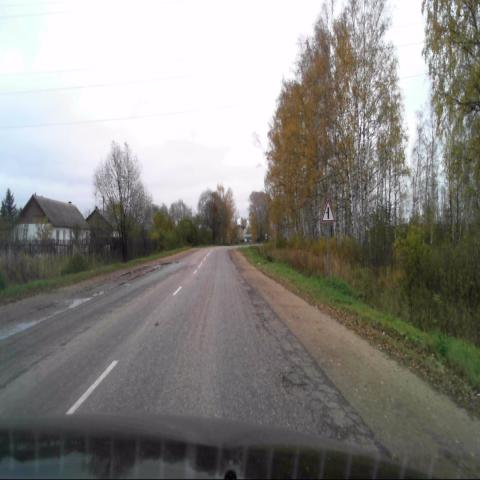2_3_3: (322, 199, 334, 223)
